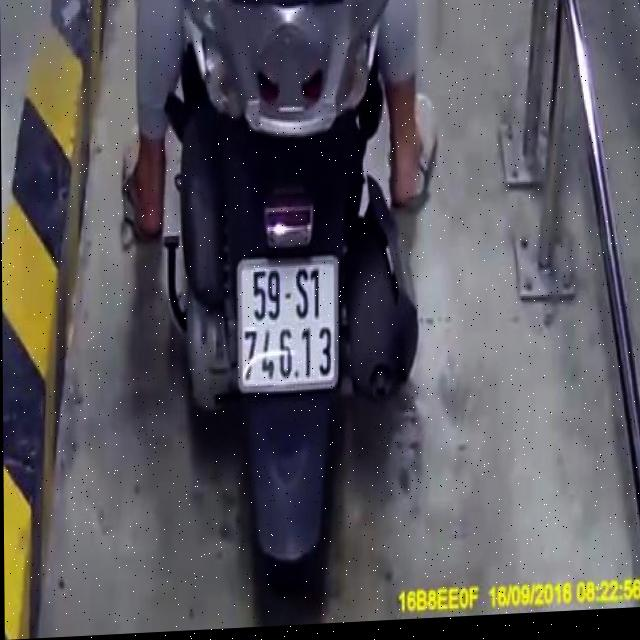motorcycle: (163, 0, 424, 632)
plate: (231, 247, 348, 401)
